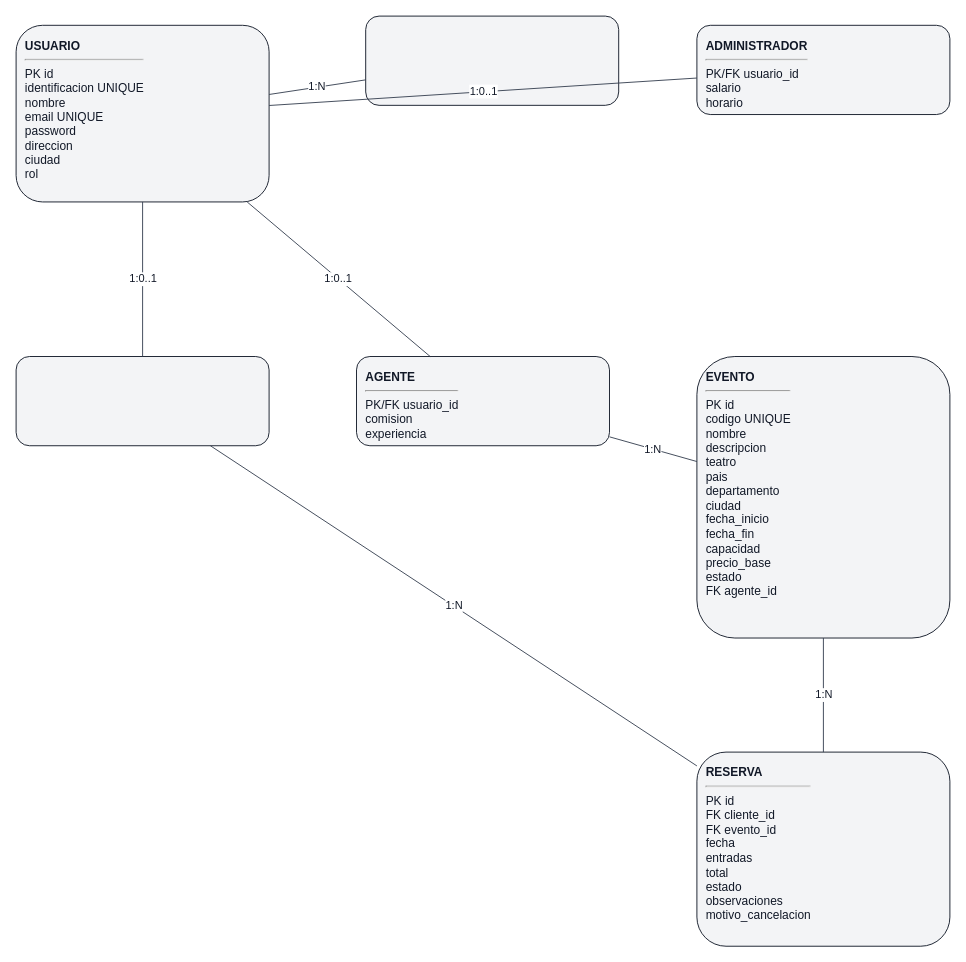
Image size: 966x962. Some labels were removed from this diagram. The shapes that lost their labels are listed below. From the top down, each one's centre as x and y in pixels, then its label:
At point (492, 60): "TELEFONO_USUARIO PK id FK usuario_id numero".
At point (142, 401): "CLIENTE PK/FK usuario_id puntos publicidad".
